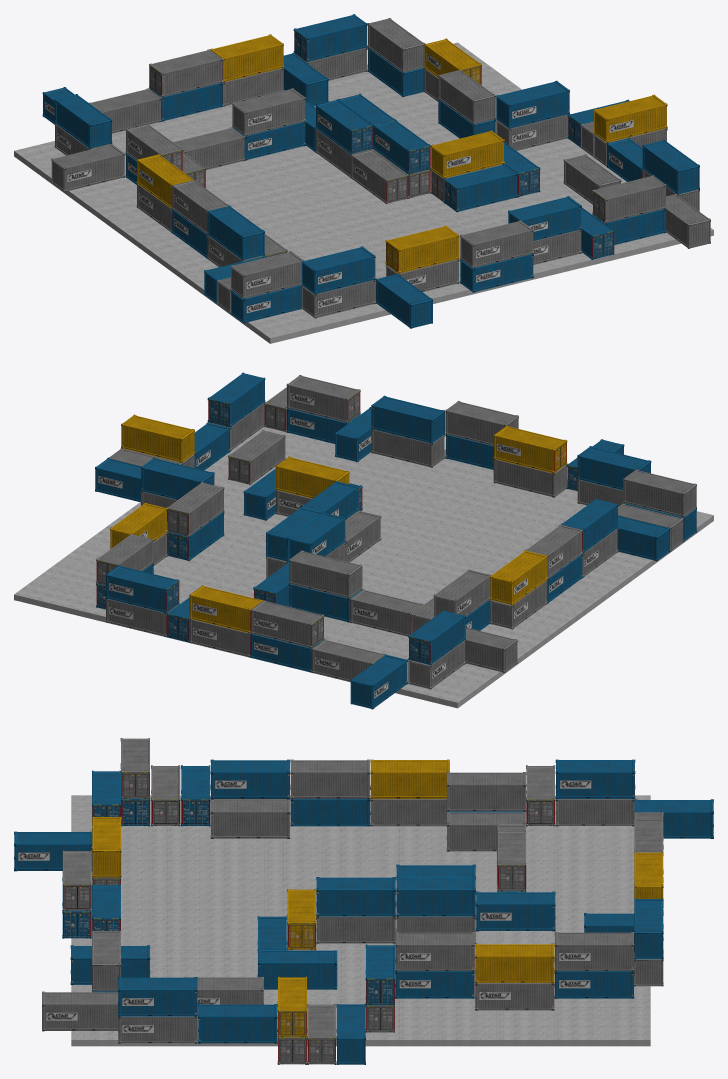
The model's file is level.glb.
The picture shows the model from 3 angles, top to bottom: view 1: azimuth 30°, elevation 25°; view 2: azimuth 150°, elevation 25°; view 3: azimuth 270°, elevation 25°; orthographic projection. The views are drawn at different scales.
Parts seen in each view (by area): view 1: Cube, Gray_Container.005, Gray_Container.001, Blue_Container.018, Gray_Container.030, Gray_Container.032, Blue_Container.026, Gray_Container.008, Blue_Container.008, Blue_Container.014, Gray_Container.018, Gray_Container.020 (+49 smaller); view 2: Cube, Gray_Container.001, Gray_Container.008, Blue_Container.008, Gray_Container.028, Gray_Container.032, Gray_Container.041, Gray_Container.020, Blue_Container.022, Gray_Container.007, Gray_Container.010, Blue_Container.003 (+46 smaller); view 3: Cube, Blue_Container.010, Gray_Container.016, Blue_Container.016, Blue_Container.017, Blue_Container.027, Gray_Container.011, Gray_Container.039, Blue_Container.029, Blue_Container.004, Gray_Container.013, Gray_Container.036 (+45 smaller).
Part boxes in pixels (x1,y1,x2,y2): Cube: (14,42,713,343); Gray_Container.005: (51,144,125,192); Gray_Container.001: (232,88,305,136); Blue_Container.018: (443,164,517,212); Gray_Container.030: (460,220,533,268); Gray_Container.032: (385,225,459,273); Blue_Container.026: (302,246,375,294); Gray_Container.008: (149,49,222,97); Blue_Container.008: (293,14,367,62); Blue_Container.014: (496,80,569,128); Gray_Container.018: (430,130,504,178); Gray_Container.020: (593,94,667,142); Cube: (14,427,713,708); Gray_Container.001: (288,550,362,598); Gray_Container.008: (250,600,324,648); Blue_Container.008: (105,565,179,613); Gray_Container.028: (286,375,360,423); Gray_Container.032: (493,425,567,473); Gray_Container.041: (623,469,696,517); Gray_Container.020: (121,414,194,462); Blue_Container.022: (371,395,444,443); Gray_Container.007: (189,585,262,633); Gray_Container.010: (349,589,423,636); Blue_Container.003: (350,654,407,709); Cube: (71,795,650,1046); Blue_Container.010: (396,877,475,916); Gray_Container.016: (395,932,474,971); Blue_Container.016: (198,1004,277,1043); Blue_Container.017: (118,977,197,1016); Blue_Container.027: (316,877,395,916); Gray_Container.011: (554,932,634,971); Gray_Container.039: (446,772,526,811); Blue_Container.029: (210,759,290,799); Blue_Container.004: (476,891,555,931); Gray_Container.013: (475,943,554,983); Gray_Container.036: (290,759,370,799).
Bounding box in the file's own units: 55.62 × 5.81 × 60.43.
Materials: 4 (4 with a texture image).
